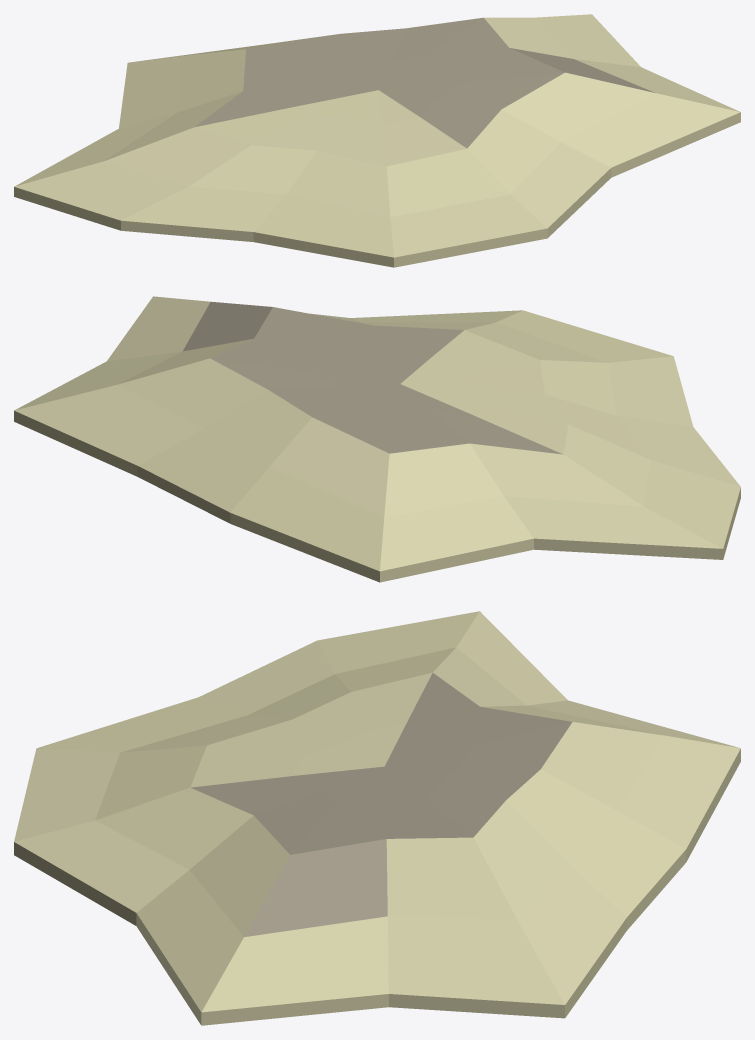
The model's file is terrain_001d_slope.glb.
3 renders of one model, top to bottom at view 1: azimuth 30°, elevation 25°; view 2: azimuth 150°, elevation 25°; view 3: azimuth 270°, elevation 25°, orthographic. The views are drawn at different scales.
Parts seen in each view (by area): view 1: terrain_001d_slope__mesh; view 2: terrain_001d_slope__mesh; view 3: terrain_001d_slope__mesh.
Part boxes in pixels (box(x1,y1,x2,y2)): terrain_001d_slope__mesh: box(14, 14, 740, 267); terrain_001d_slope__mesh: box(14, 296, 740, 582); terrain_001d_slope__mesh: box(14, 611, 740, 1025).
Bounding box in the file's own units: 5.8 × 0.5973 × 4.44.
